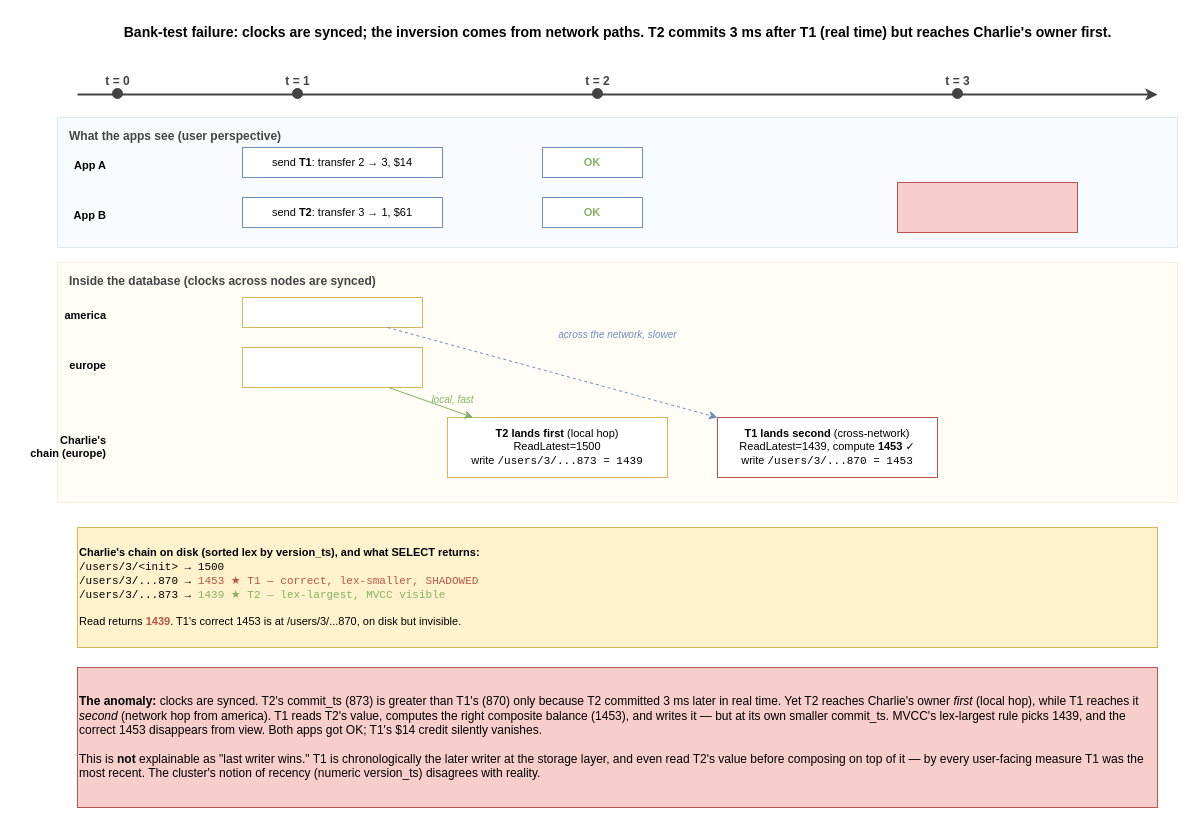
Image size: 1195x825. Some labels were removed from this diagram. The shapes that lost their labels are listed below. From the top down, each one's centre as x and y in pixels, then its label:
point (987, 207): SELECT → Charlie = 1439 ⚠ expected 1453
point (332, 312): commit T1, commit_ts = 870
point (332, 367): commit T2, commit_ts = 873 (real time, 3 ms after T1)
